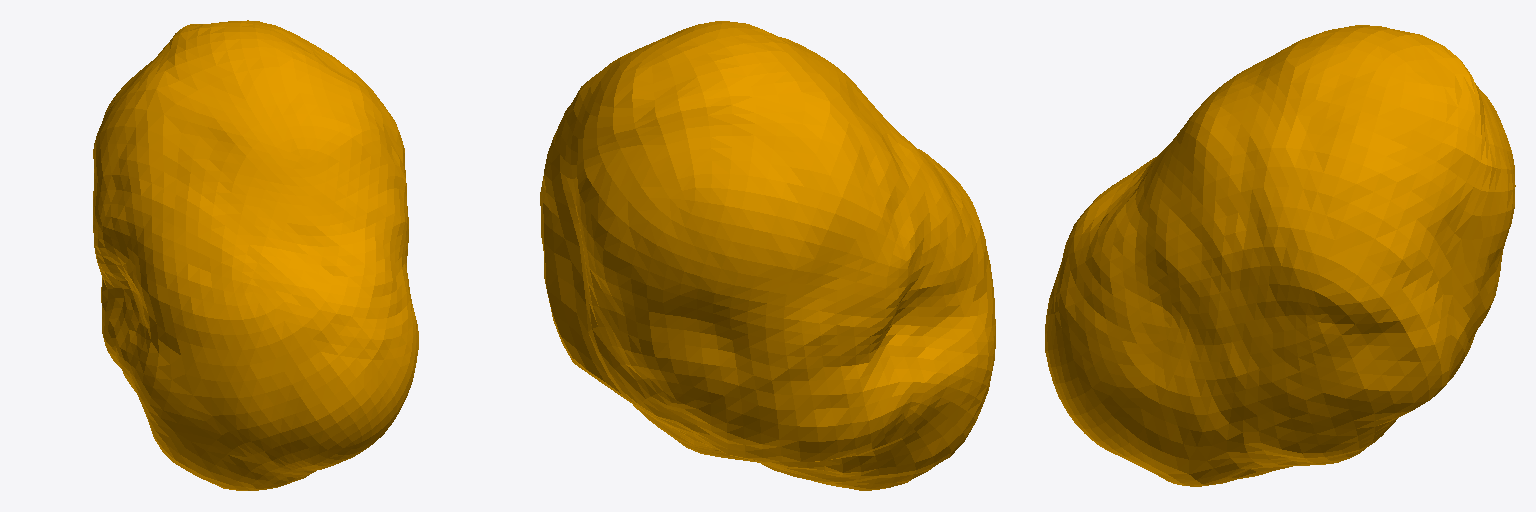
robot.urdf — rock:
<?xml version="1.0" ?>
<robot name="rock">
  <link name="rock">
    <inertial>
      <mass value="0.209"/>
      <origin rpy="0 0 0" xyz="0 0 0"/>
      <inertia ixx="0.000209" ixy="0" ixz="0" iyy="0.000209" iyz="0" izz="0.000209"/>
    </inertial>
    <collision name="rock_collision">
      <origin rpy="0 0 0" xyz="0 0 0"/>
      <geometry>
        <mesh filename="package://rocks/visual/253.dae" scale="1 1 1"/>
      </geometry>
    </collision>
    <visual name="rock_visual">
      <origin rpy="0 0 0" xyz="0 0 0"/>
      <geometry>
        <mesh filename="package://rocks/visual/253.dae" scale="1 1 1"/>
      </geometry>
    </visual>
  </link>
</robot>

--- Render facts (derived) ---
3 views of the same robot in one strip: view 1: azimuth 30°, elevation 25°; view 2: azimuth 150°, elevation 25°; view 3: azimuth 270°, elevation 25° (orthographic).
Robot: rock — 1 links, 0 joints (none); root link rock; default pose: all joints at 0.
Visible links, largest first — view 1: rock; view 2: rock; view 3: rock.
Link boxes in pixels (x1,y1,x2,y2): rock: [93, 20, 418, 490]; rock: [540, 21, 995, 490]; rock: [1045, 25, 1515, 486].
Bounding box of the posed robot: 0.0553 × 0.0648 × 0.0704 m (x, y, z).
Meshes: 1 distinct files referenced, 1 mesh visuals loaded (1 Collada DAE).